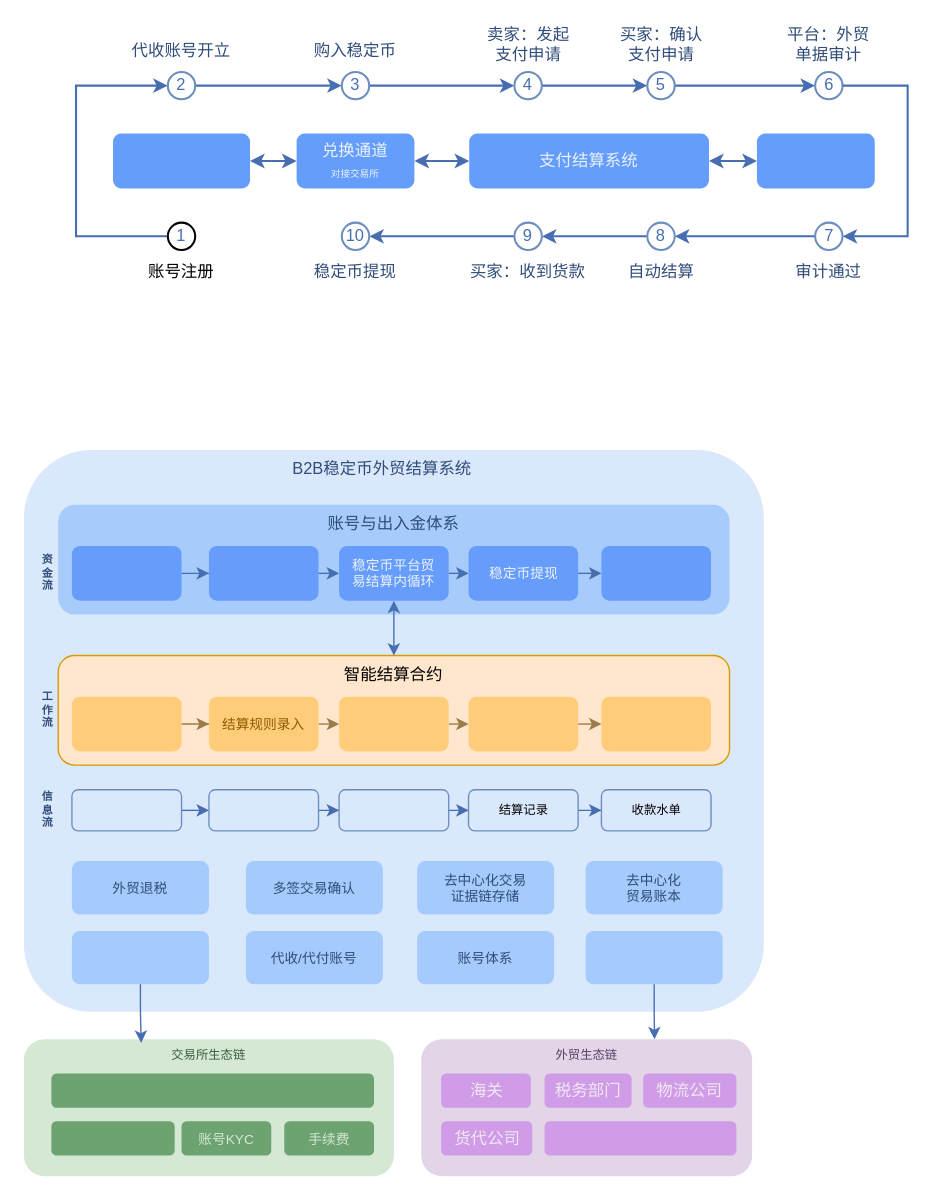
The diagram is 943 pixels wide and 1199 high, and some of its shapes have lost their labels. The centre of each missing label's shape, as x and y in pixels:
"三方审计公司" goes at pixel 640 1138.
"买家发起支付" goes at pixel 126 723.
"代收代付账号" goes at pixel 180 160.
"出入金通道" goes at pixel 139 957.
"卖家收到货款" goes at pixel 655 723.
"合同条款信息" goes at pixel 263 809.
"合同证明 与收款方" goes at pixel 126 809.
"合规出入 金通道" goes at pixel 212 1090.
"外贸单据 审计系统" goes at pixel 815 160.
"外贸单据管理" goes at pixel 653 957.
"按规则结算" goes at pixel 522 723.
"换取法币" goes at pixel 655 572.
"法币购入 稳定币" goes at pixel 263 572.
"账号体 系打通" goes at pixel 112 1138.
"账户开立" goes at pixel 126 572.
"贸易单据与 审计结论" goes at pixel 393 809.
"贸易跟踪 与单据审计" goes at pixel 393 723.
